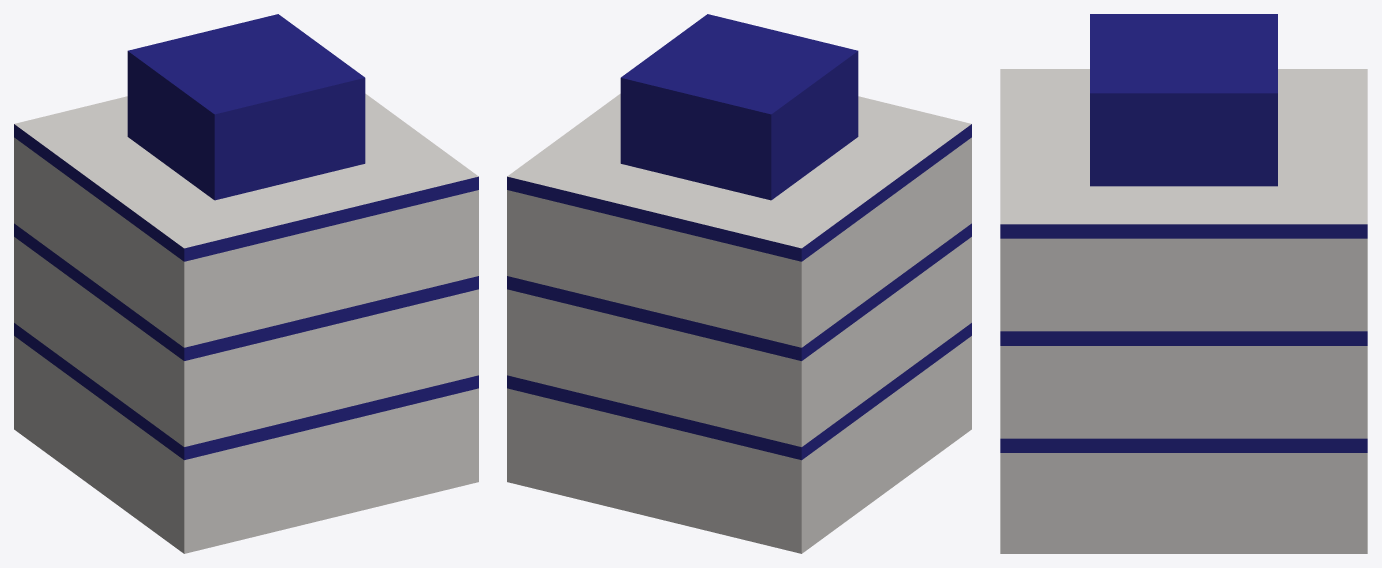
File: Building-Residential-Tower.fbx
3 renders of one model, left to right at view 1: azimuth 30°, elevation 25°; view 2: azimuth 150°, elevation 25°; view 3: azimuth 270°, elevation 25°, orthographic. The views are drawn at different scales.
Visible parts, largest first — view 1: Cube; view 2: Cube; view 3: Cube.
Part boxes in pixels (x1,y1,x2,y2): Cube: (14,14,478,553); Cube: (507,14,971,553); Cube: (1000,14,1367,553).
Size of the model in its own units: 10 by 12.69 by 10.
